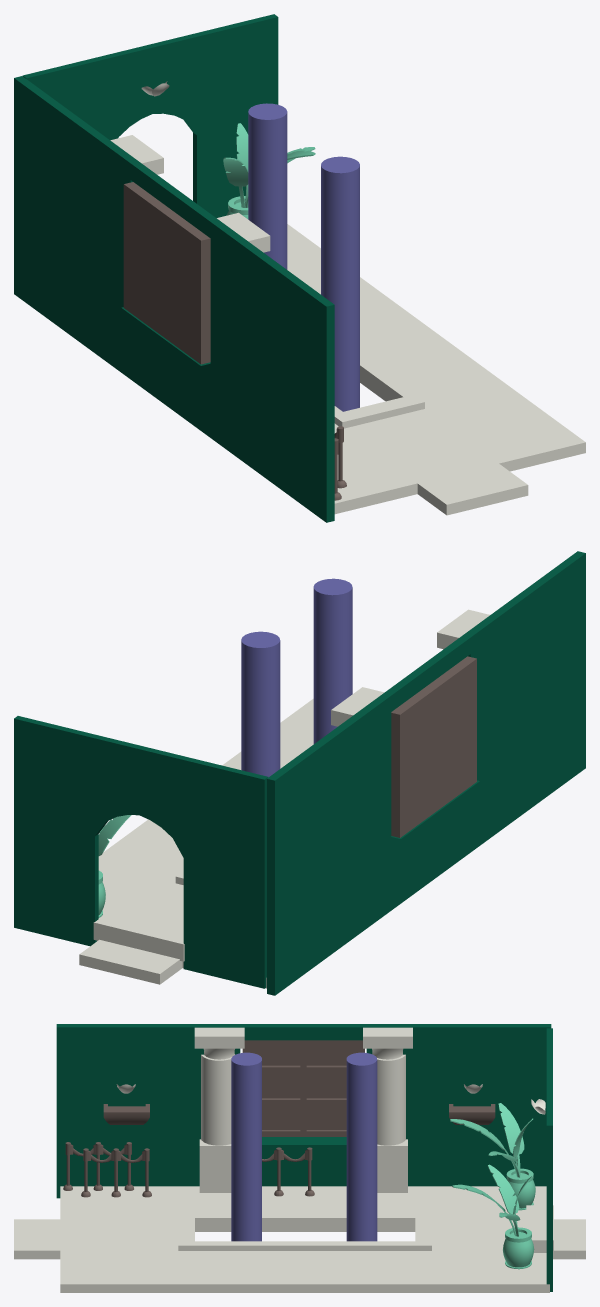
File: Restaurant_Corridor.fbx
The picture shows the model from 3 angles, top to bottom: view 1: azimuth 30°, elevation 25°; view 2: azimuth 150°, elevation 25°; view 3: azimuth 270°, elevation 25°; orthographic projection. The views are drawn at different scales.
Visible parts, largest first — view 1: Wall, Floor, Waterfall_placeholder, Window, Fancy_columns_half_width, Plant_Var2, Rope_stanchions; view 2: Wall, Window, Floor, Waterfall_placeholder, Stairs, Fancy_columns_half_width, Plant_Var2; view 3: Wall, Floor, Waterfall_placeholder, Fancy_columns_half_width, Window, Plant_Var2, Rope_stanchions, Pot, Stairs, Fancy_wall_light.
Part boxes in pixels (<box>): Wall: <box>14,14,334,522</box>; Floor: <box>287,224,585,515</box>; Waterfall_placeholder: <box>248,103,359,411</box>; Window: <box>123,182,210,364</box>; Fancy_columns_half_width: <box>110,135,270,252</box>; Plant_Var2: <box>223,123,315,219</box>; Rope_stanchions: <box>334,426,346,500</box>; Wall: <box>14,551,585,995</box>; Window: <box>391,656,476,837</box>; Floor: <box>79,698,313,988</box>; Waterfall_placeholder: <box>241,578,352,777</box>; Stairs: <box>93,909,184,961</box>; Fancy_columns_half_width: <box>331,609,489,726</box>; Plant_Var2: <box>98,815,131,917</box>; Wall: <box>56,1024,552,1291</box>; Floor: <box>14,1186,585,1292</box>; Waterfall_placeholder: <box>231,1052,377,1241</box>; Fancy_columns_half_width: <box>194,1027,412,1192</box>; Window: <box>242,1040,364,1136</box>; Plant_Var2: <box>450,1103,535,1269</box>; Rope_stanchions: <box>63,1142,314,1197</box>; Pot: <box>103,1104,495,1124</box>; Stairs: <box>509,1205,553,1253</box>; Fancy_wall_light: <box>116,1084,545,1114</box>.
Bounding box in the file's own units: 27.36 × 22.77 × 61.34.
